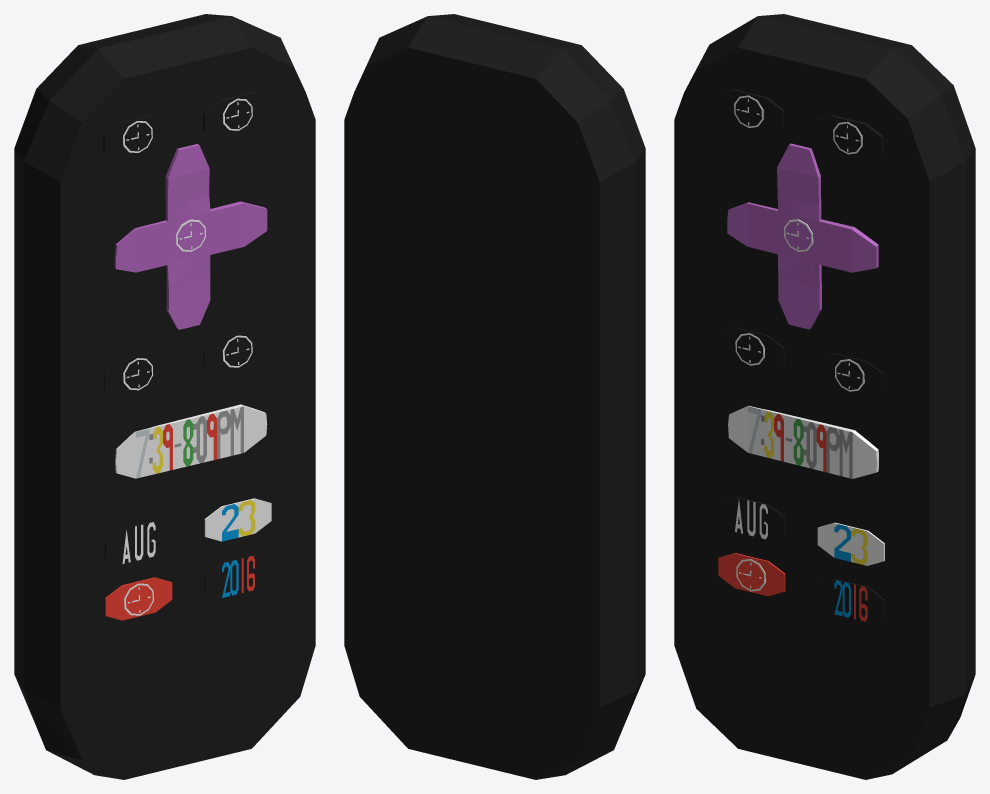
The model's file is remote.glb.
3 views of the same model, side by side, from view 1: azimuth 30°, elevation 25°; view 2: azimuth 150°, elevation 25°; view 3: azimuth 330°, elevation 25° (orthographic).
Parts seen in each view (by area): view 1: group1725855321, group1309953899, group1992407413, group1420578329, group1048124602, group918356339, group115856162, group1150829683, group2066139410, group1735894131, group1143128412, group1054147459 (+6 smaller); view 2: group1725855321; view 3: group1725855321, group1309953899, group1992407413, group1420578329, group918356339, group115856162, group1048124602, group1150829683, group2066139410, group1054147459, group1735894131, group1143128412 (+6 smaller).
Part boxes in pixels (x1,y1,x2,y2): group1725855321: [14, 14, 315, 779]; group1309953899: [115, 404, 267, 478]; group1992407413: [114, 201, 267, 272]; group1420578329: [165, 144, 210, 329]; group1048124602: [204, 498, 271, 541]; group918356339: [105, 521, 172, 564]; group115856162: [204, 554, 271, 597]; group1150829683: [203, 91, 270, 135]; group2066139410: [103, 114, 170, 157]; group1735894131: [105, 577, 172, 620]; group1143128412: [203, 329, 270, 372]; group1054147459: [104, 352, 171, 395]; group1725855321: [344, 14, 645, 779]; group1725855321: [674, 14, 975, 779]; group1309953899: [728, 406, 878, 478]; group1992407413: [727, 202, 878, 272]; group1420578329: [777, 143, 821, 329]; group918356339: [718, 496, 785, 539]; group115856162: [817, 579, 884, 622]; group1048124602: [817, 522, 884, 565]; group1150829683: [815, 115, 883, 159]; group2066139410: [716, 89, 783, 132]; group1054147459: [717, 327, 784, 370]; group1735894131: [718, 553, 785, 596]; group1143128412: [817, 353, 883, 396].
Bounding box in the file's own units: 3.4 × 8.36 × 1.04.
